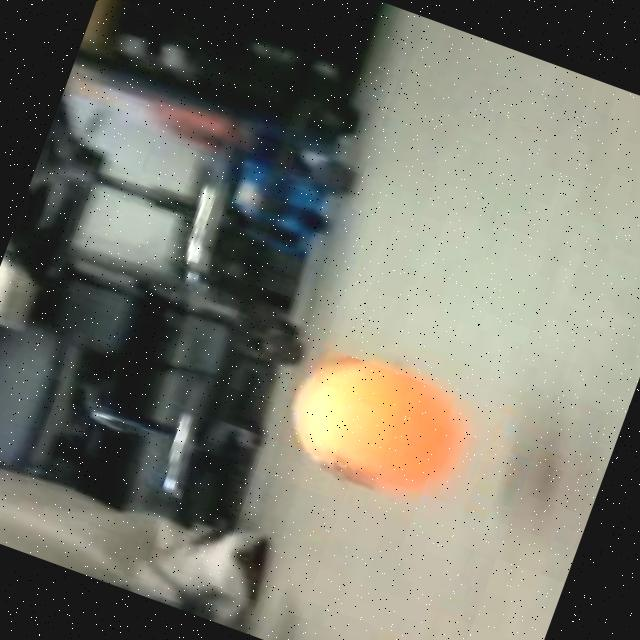ping-pong-ball: (262, 335, 477, 518)
